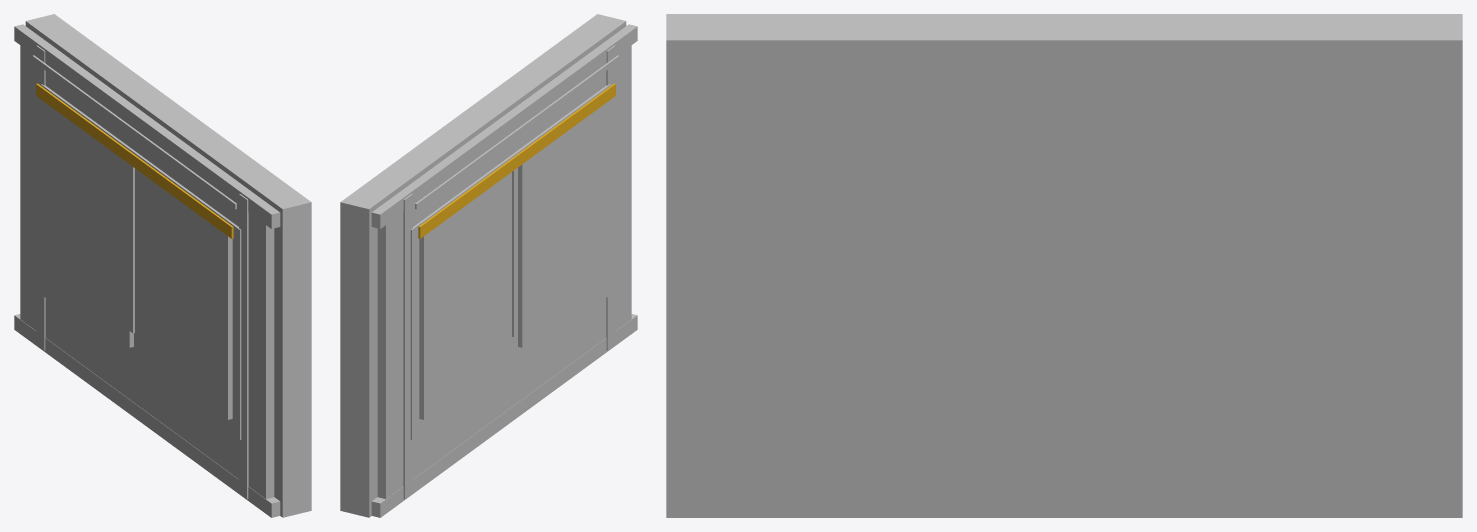
File: SF_SlidingLabDoor.obj
3 renders of one model, left to right at view 1: azimuth 30°, elevation 25°; view 2: azimuth 150°, elevation 25°; view 3: azimuth 270°, elevation 25°, orthographic. The views are drawn at different scales.
Parts seen in each view (by area): view 1: SF_SlidingLabDoor; view 2: SF_SlidingLabDoor; view 3: SF_SlidingLabDoor.
Part boxes in pixels (x1,y1,x2,y2): SF_SlidingLabDoor: (14, 14, 311, 517); SF_SlidingLabDoor: (340, 14, 637, 517); SF_SlidingLabDoor: (666, 14, 1462, 517).
Bounding box in the file's own units: 0.3925 × 2.35 × 3.55.
